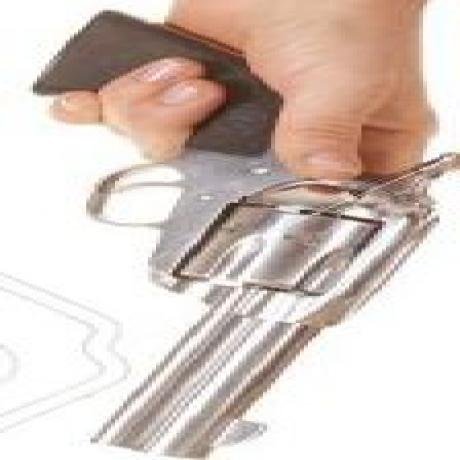1: (52, 0, 448, 184)
weapon: (17, 10, 454, 458)
